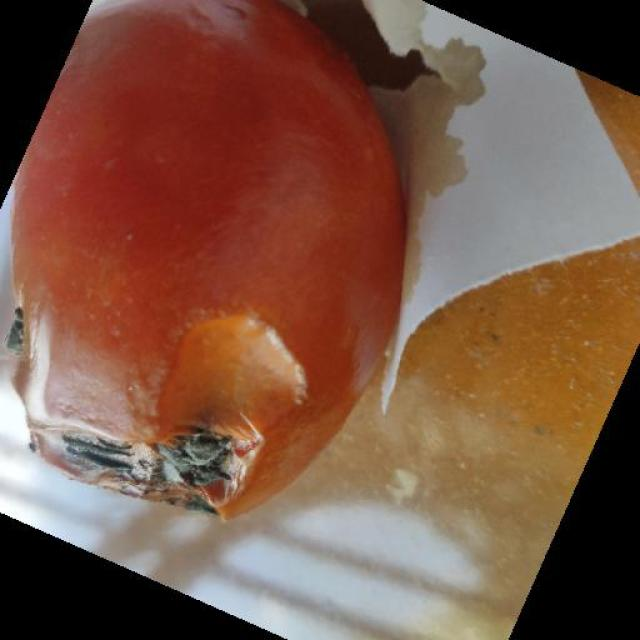Stale_tomato: (60, 0, 415, 518)
